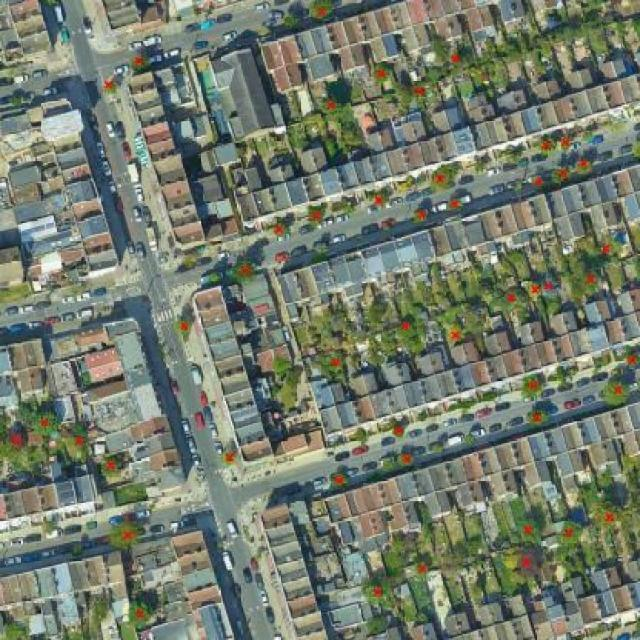tree: (551, 516, 587, 553), (360, 572, 394, 609), (108, 517, 144, 551), (124, 598, 158, 632), (590, 500, 625, 532), (513, 547, 545, 581), (601, 376, 633, 409), (316, 91, 347, 125), (413, 498, 438, 540), (65, 423, 93, 460), (512, 518, 545, 549), (428, 164, 460, 193), (559, 552, 593, 579), (314, 351, 349, 377), (502, 287, 533, 316), (31, 410, 62, 438), (396, 315, 427, 342), (335, 126, 367, 152), (266, 355, 299, 380), (3, 427, 32, 455), (537, 272, 563, 303), (429, 31, 455, 62), (476, 48, 502, 79), (576, 269, 604, 297), (231, 259, 260, 285), (519, 373, 545, 402), (12, 397, 40, 423), (286, 123, 312, 151), (364, 612, 391, 638), (330, 195, 356, 222), (216, 445, 241, 472), (98, 456, 127, 479), (525, 407, 554, 430), (542, 9, 567, 35), (305, 202, 329, 229), (554, 361, 578, 388), (127, 52, 156, 74), (621, 459, 640, 492), (370, 62, 396, 86), (534, 132, 558, 158), (548, 164, 575, 187), (595, 236, 622, 259), (309, 0, 337, 22), (572, 156, 598, 179), (2, 618, 29, 640), (448, 49, 471, 74), (329, 469, 354, 492), (413, 82, 438, 104), (173, 316, 196, 339), (391, 82, 412, 107), (97, 78, 123, 98), (413, 557, 433, 583), (523, 280, 545, 303), (390, 530, 408, 558), (352, 425, 373, 449), (92, 598, 114, 620), (446, 321, 466, 345), (271, 219, 292, 241), (532, 38, 557, 56), (372, 189, 392, 211), (460, 429, 482, 449), (515, 33, 532, 58), (621, 350, 640, 372), (444, 194, 467, 212), (503, 152, 526, 170), (396, 452, 419, 470), (180, 251, 203, 269), (40, 515, 58, 537), (310, 241, 332, 259), (412, 208, 433, 226), (283, 13, 302, 32), (555, 134, 575, 152), (472, 158, 492, 176), (530, 172, 547, 193), (389, 422, 408, 440), (381, 455, 399, 474), (626, 15, 640, 39), (205, 270, 224, 287), (429, 440, 446, 458), (626, 139, 640, 159), (80, 370, 94, 388), (71, 544, 87, 559)
